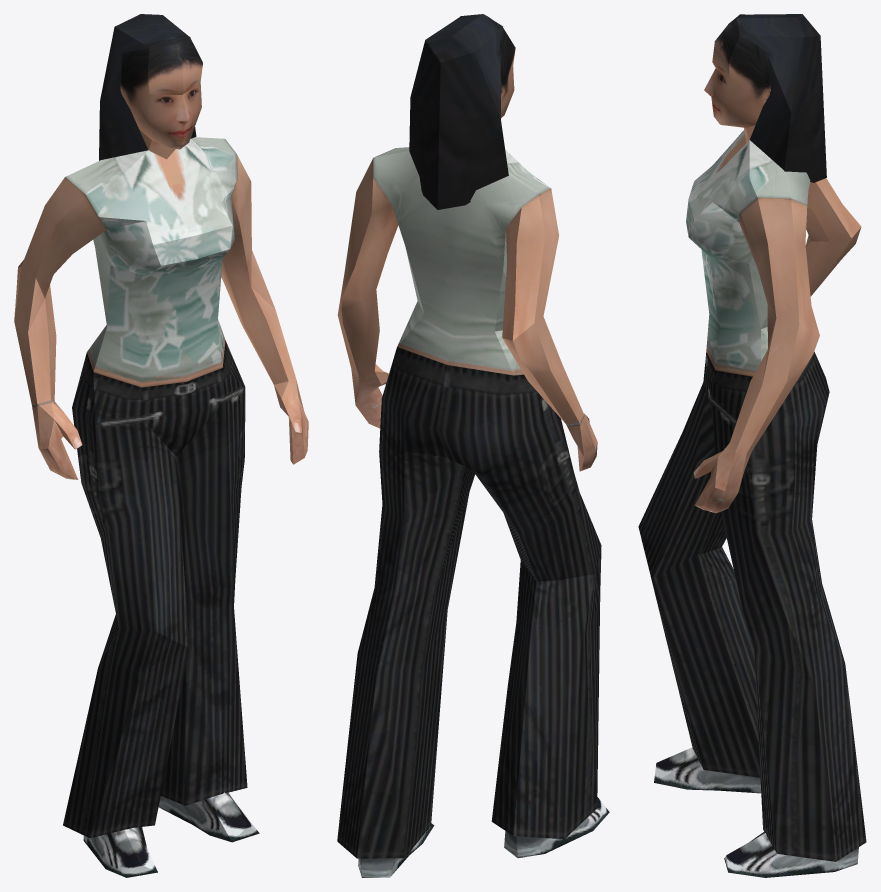
The picture shows the model from 3 angles, left to right: view 1: azimuth 30°, elevation 25°; view 2: azimuth 150°, elevation 25°; view 3: azimuth 270°, elevation 25°; orthographic projection. The views are drawn at different scales.
Visible parts, largest first — view 1: glbxzcom60311; view 2: glbxzcom60311; view 3: glbxzcom60311.
Part boxes in pixels (box(x1,y1,x2,y2)): glbxzcom60311: box(14, 14, 308, 877); glbxzcom60311: box(337, 14, 609, 877); glbxzcom60311: box(638, 14, 866, 877).
Bounding box in the file's own units: 0.5746 × 1.8 × 0.4552.
Materials: 1 (1 with a texture image).
